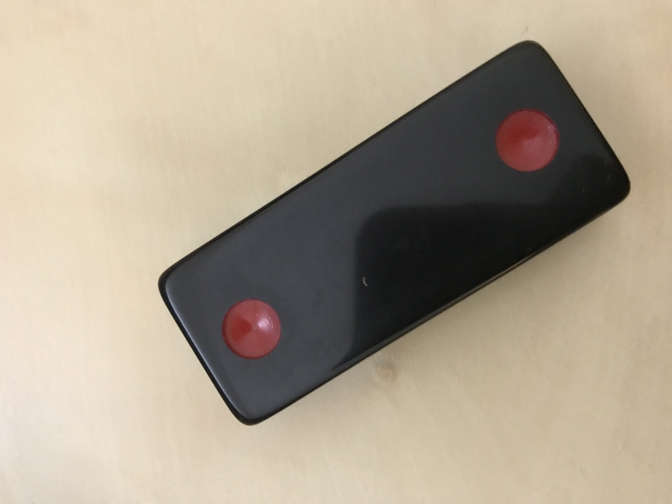earth: (158, 38, 632, 426)
